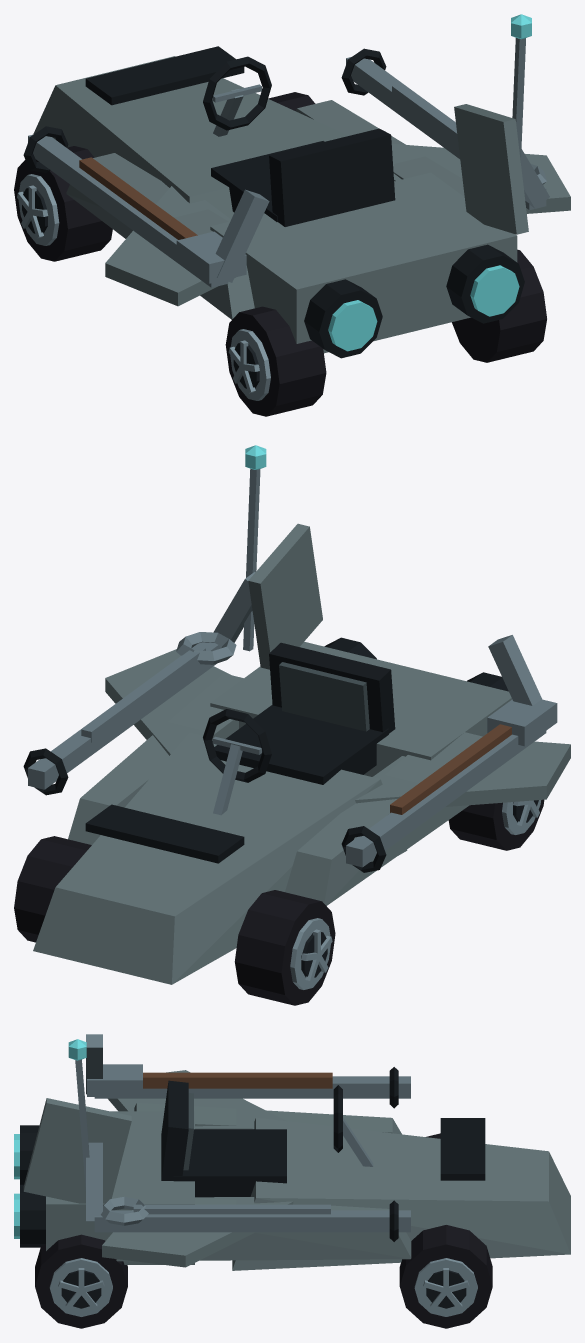
File: kart.glb
3 renders of one model, top to bottom at view 1: azimuth 30°, elevation 25°; view 2: azimuth 150°, elevation 25°; view 3: azimuth 270°, elevation 25°, orthographic. The views are drawn at different scales.
Visible parts, largest first — view 1: identity-shuttle-shuttle-flight-planform, identity-shuttle-driver-cockpit, identity-shuttle-motif-pipes, wheel-rear-left, wheel-front-left, identity-shuttle-motif-tools, wheel-rear-right, identity-shuttle-motif-antenna, wheel-front-right; view 2: identity-shuttle-shuttle-flight-planform, identity-shuttle-driver-cockpit, identity-shuttle-motif-pipes, wheel-front-left, identity-shuttle-motif-tools, wheel-front-right, wheel-rear-left, identity-shuttle-motif-antenna; view 3: identity-shuttle-shuttle-flight-planform, identity-shuttle-motif-pipes, identity-shuttle-driver-cockpit, identity-shuttle-motif-tools, wheel-front-right, wheel-rear-right, identity-shuttle-motif-antenna.
Boxes of the visible parts, bbox=[...] form: identity-shuttle-shuttle-flight-planform: bbox=[33, 46, 570, 358]; identity-shuttle-driver-cockpit: bbox=[203, 56, 395, 226]; identity-shuttle-motif-pipes: bbox=[23, 48, 549, 287]; wheel-rear-left: bbox=[225, 306, 326, 416]; wheel-front-left: bbox=[14, 146, 112, 261]; identity-shuttle-motif-tools: bbox=[79, 83, 546, 283]; wheel-rear-right: bbox=[452, 249, 546, 362]; identity-shuttle-motif-antenna: bbox=[511, 14, 531, 162]; wheel-front-right: bbox=[268, 92, 315, 110]; identity-shuttle-shuttle-flight-planform: bbox=[33, 523, 570, 984]; identity-shuttle-driver-cockpit: bbox=[203, 642, 395, 815]; identity-shuttle-motif-pipes: bbox=[23, 572, 546, 872]; wheel-front-left: bbox=[234, 890, 335, 1005]; identity-shuttle-motif-tools: bbox=[81, 632, 557, 814]; wheel-front-right: bbox=[14, 836, 91, 942]; wheel-rear-left: bbox=[448, 799, 544, 850]; identity-shuttle-motif-antenna: bbox=[243, 445, 266, 651]; identity-shuttle-shuttle-flight-planform: bbox=[14, 1070, 570, 1270]; identity-shuttle-motif-pipes: bbox=[86, 1034, 410, 1241]; identity-shuttle-driver-cockpit: bbox=[161, 1080, 373, 1197]; identity-shuttle-motif-tools: bbox=[87, 1064, 332, 1225]; wheel-front-right: bbox=[399, 1225, 492, 1328]; wheel-rear-right: bbox=[35, 1234, 127, 1328]; identity-shuttle-motif-antenna: bbox=[68, 1039, 89, 1190].
Size of the model in its own units: 2.36 by 1.72 by 2.99.
